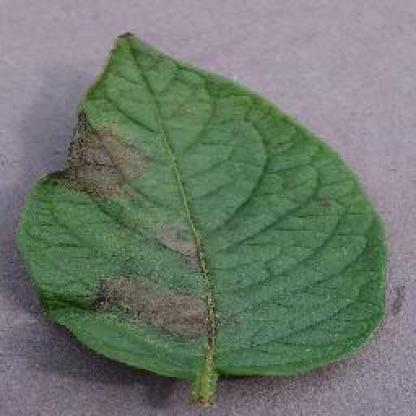bad leaf: (101, 261, 232, 363), (57, 125, 144, 231), (152, 219, 218, 288)
